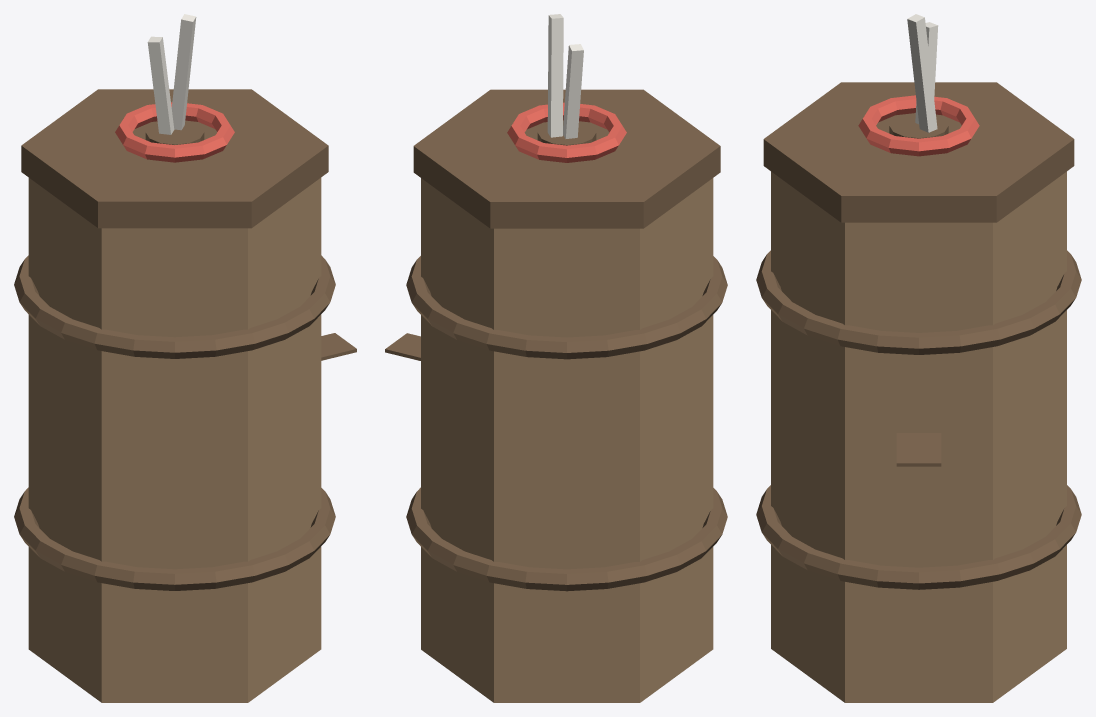
The model's file is omikuji_box.glb.
The picture shows the model from 3 angles, left to right: view 1: azimuth 30°, elevation 25°; view 2: azimuth 150°, elevation 25°; view 3: azimuth 270°, elevation 25°; orthographic projection.
Visible parts, largest first — view 1: omikuji_box; view 2: omikuji_box; view 3: omikuji_box.
Boxes of the visible parts, x1=… form: omikuji_box: x1=14, y1=14, x2=356, y2=702; omikuji_box: x1=385, y1=14, x2=727, y2=702; omikuji_box: x1=756, y1=14, x2=1081, y2=702.
Size of the model in its own units: 0.49 by 0.9506 by 0.44.
